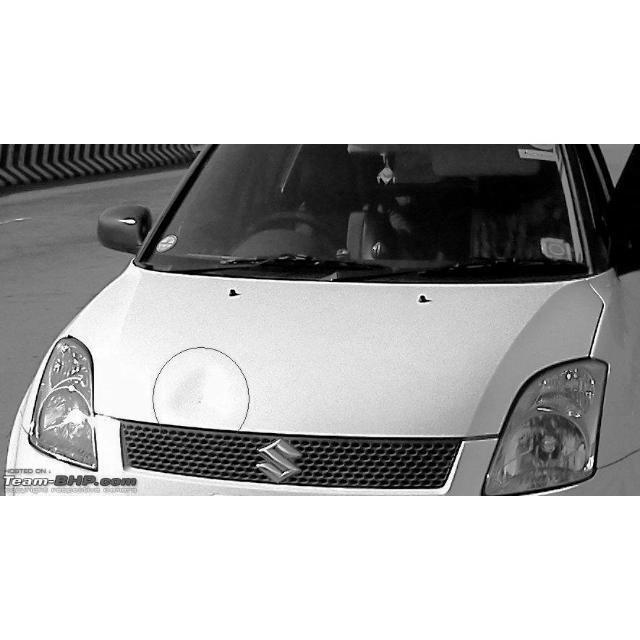bonnet-dent: (94, 275, 512, 466)
